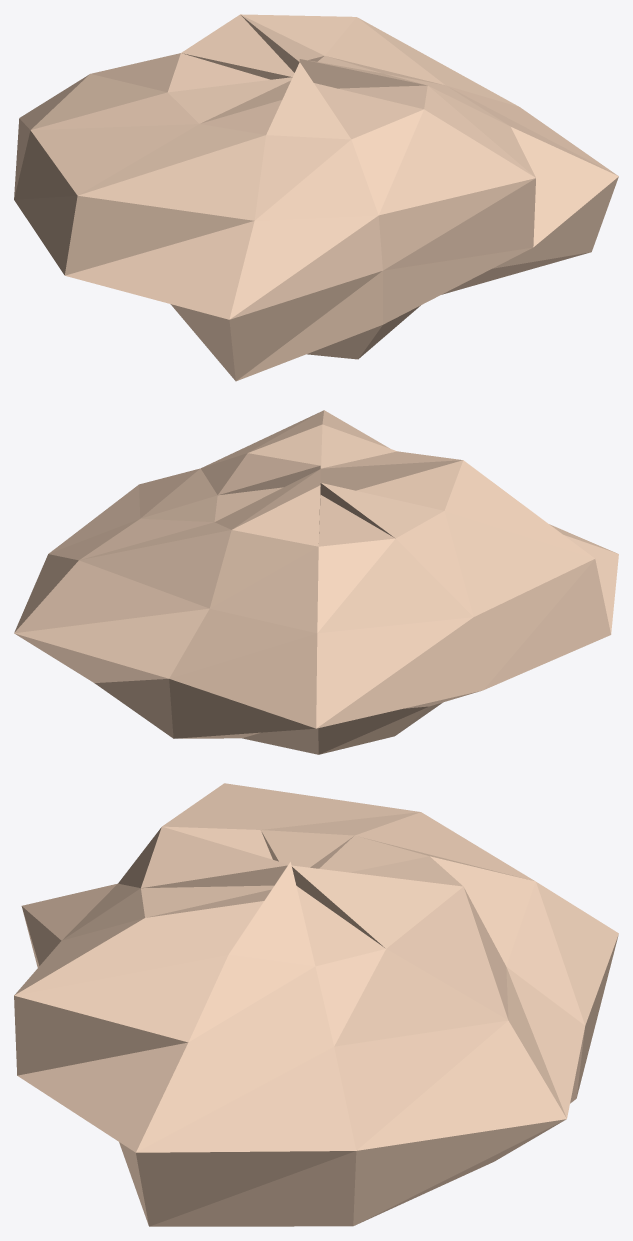
File: rock_031.obj
The picture shows the model from 3 angles, top to bottom: view 1: azimuth 30°, elevation 25°; view 2: azimuth 150°, elevation 25°; view 3: azimuth 270°, elevation 25°; orthographic projection. The views are drawn at different scales.
Bounding box in the file's own units: 1.56 × 0.7604 × 1.37.
